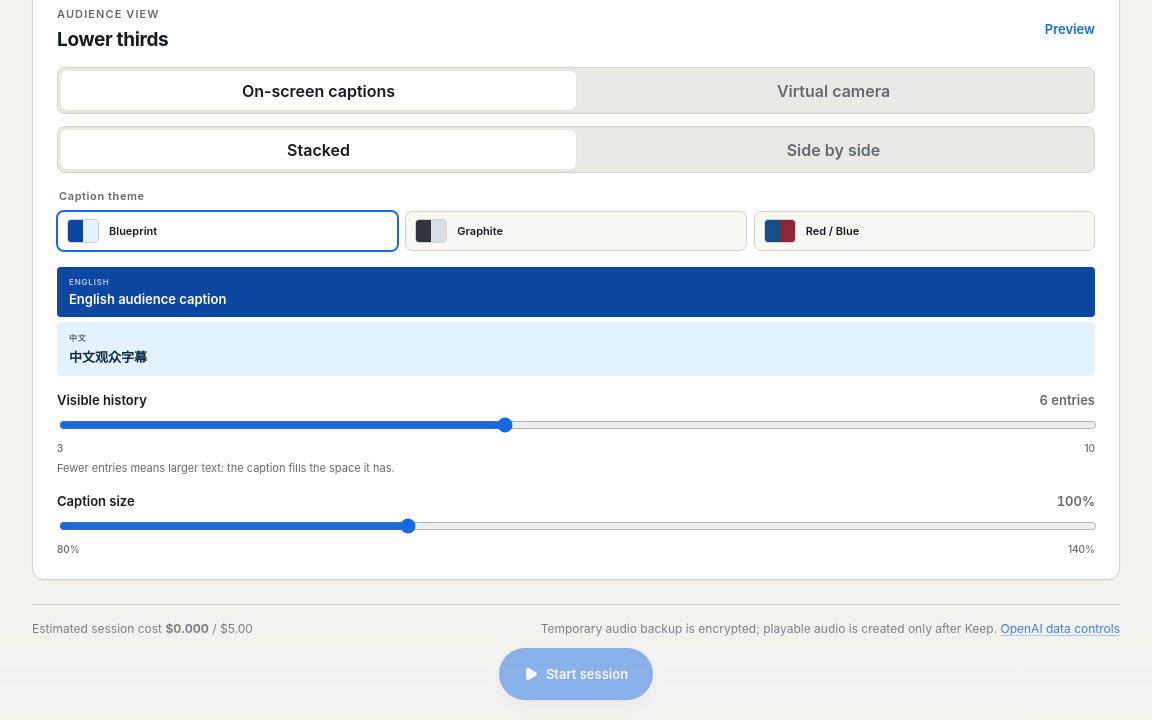
Test case: meeting caption controls › persists a 3-10 entry visible-history setting without a pace delay
(page scrolled)
Expected: the button "Start session" is shown, x1=499 y1=648 x2=653 y2=700
Set the slider named "Visible history" to "10" at (1089, 425), box x1=59 y1=417 x2=1097 y2=433
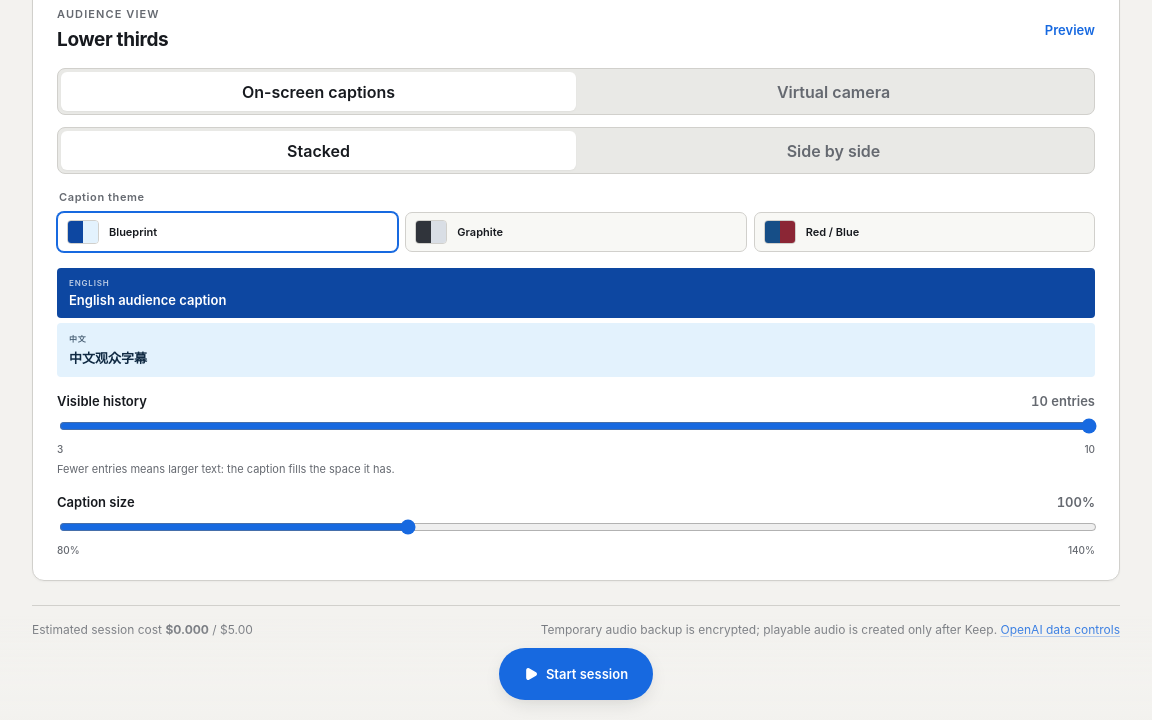
Expected: the text "10 entries" is shown, x1=1031 y1=393 x2=1095 y2=409
